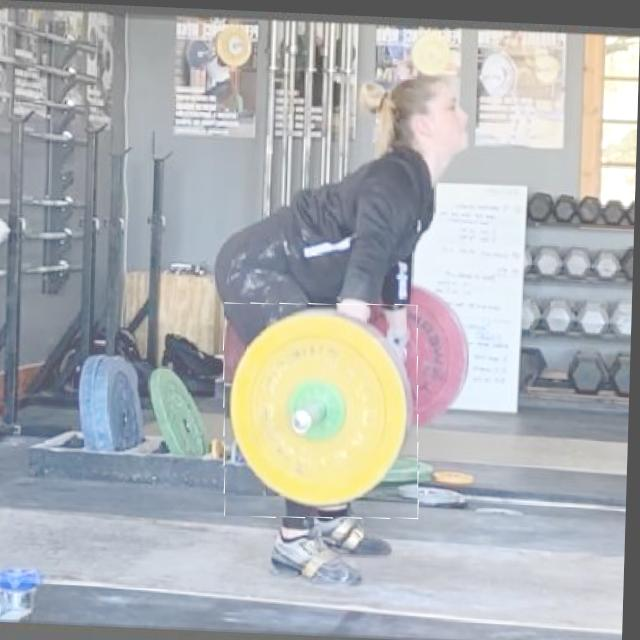barbell: (224, 297, 425, 519)
